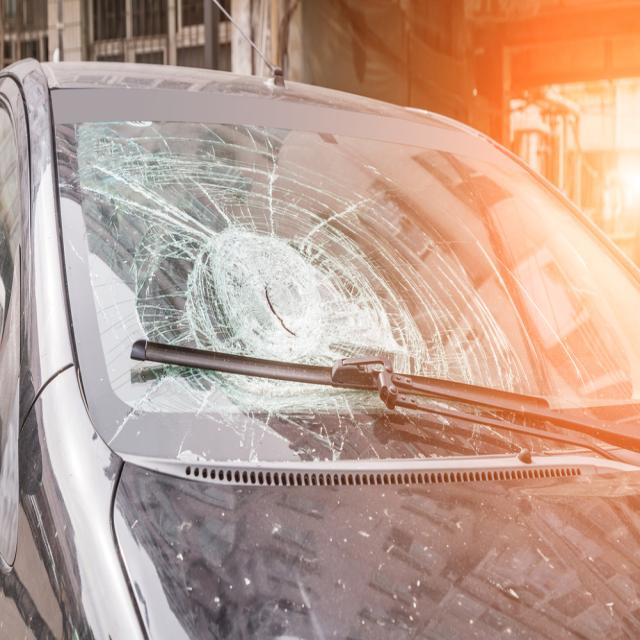Windshield: (91, 128, 382, 427)
